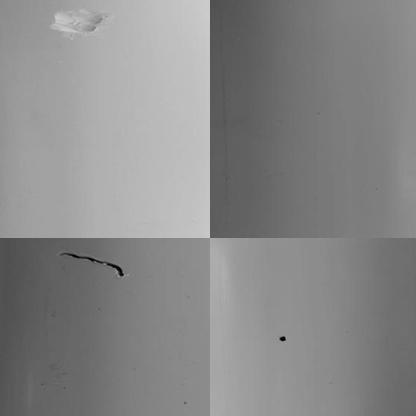fengxi: (61, 249, 124, 280)
kongdong: (276, 335, 287, 344)
sunshang: (47, 8, 104, 40)
